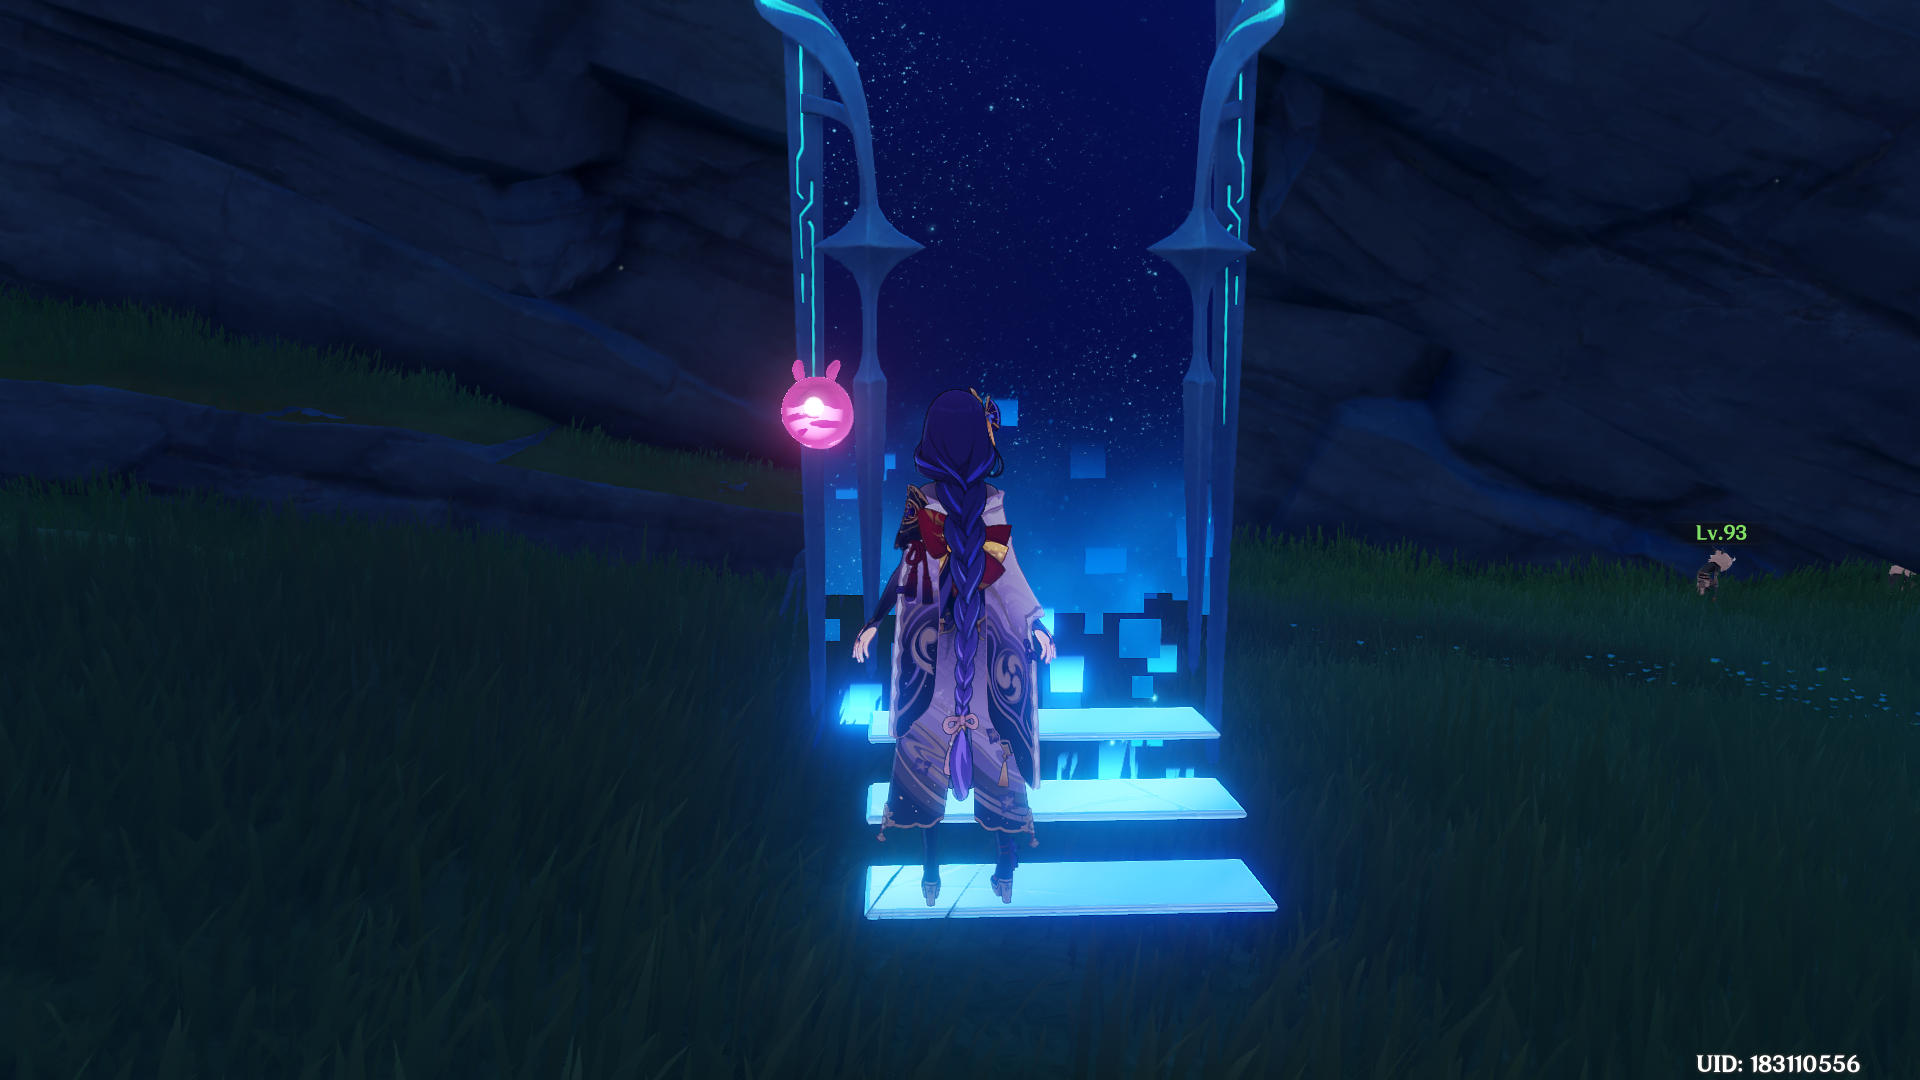character: (825, 371, 1120, 938)
hili: (1684, 546, 1756, 613)
